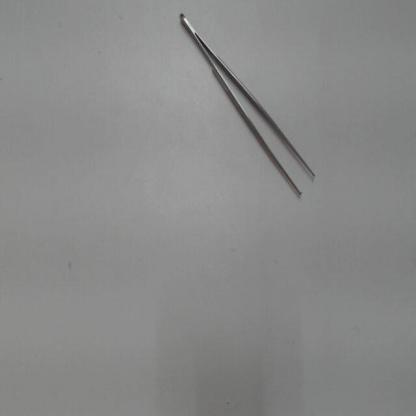Gillies Toothed Dissector: (171, 9, 324, 207)
